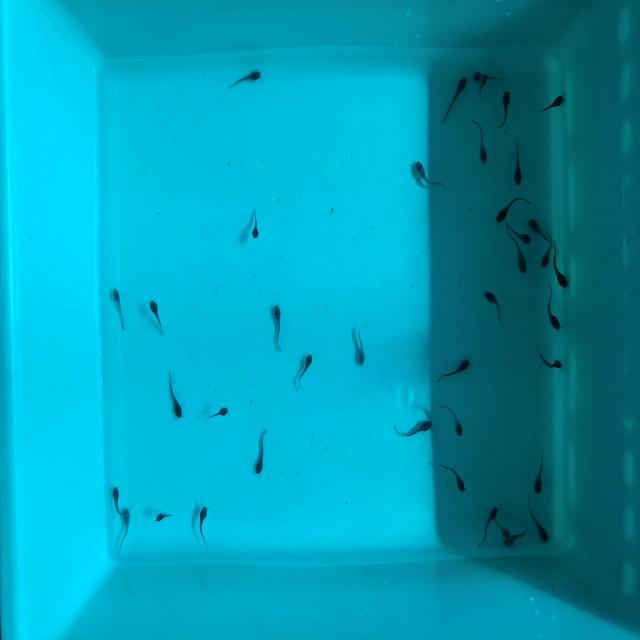lele: (440, 72, 471, 127), (519, 493, 552, 544), (411, 155, 448, 196), (434, 353, 473, 388), (504, 226, 530, 277), (475, 501, 501, 551), (162, 369, 186, 423), (436, 398, 467, 439), (481, 285, 509, 330), (494, 189, 527, 227), (539, 284, 563, 335), (439, 458, 470, 496), (485, 504, 513, 542), (526, 215, 556, 250), (471, 115, 491, 166), (548, 245, 570, 291), (253, 425, 272, 478), (145, 294, 168, 337), (294, 350, 317, 392), (533, 90, 567, 118), (502, 216, 532, 247), (501, 520, 532, 550), (226, 67, 263, 92), (115, 506, 133, 557), (494, 88, 513, 135), (110, 282, 128, 329), (532, 449, 549, 498), (535, 350, 565, 375), (539, 232, 557, 273), (398, 419, 435, 438), (511, 133, 524, 186), (202, 403, 231, 424), (109, 480, 124, 520), (196, 504, 208, 548), (472, 69, 507, 84), (272, 303, 283, 349), (356, 324, 367, 367), (475, 72, 489, 105), (154, 510, 173, 526), (251, 205, 259, 239)
